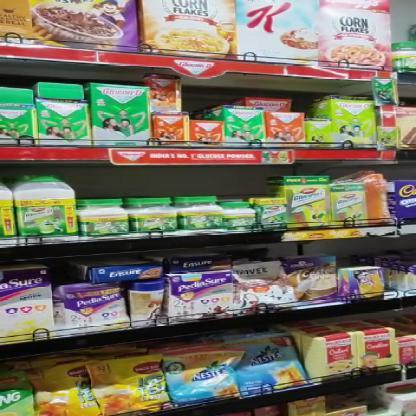Glucon D Nimbu Pani 1-KG: (327, 95, 374, 145)
Glucon D Regular 1-KG: (88, 84, 146, 145), (35, 98, 90, 145)
